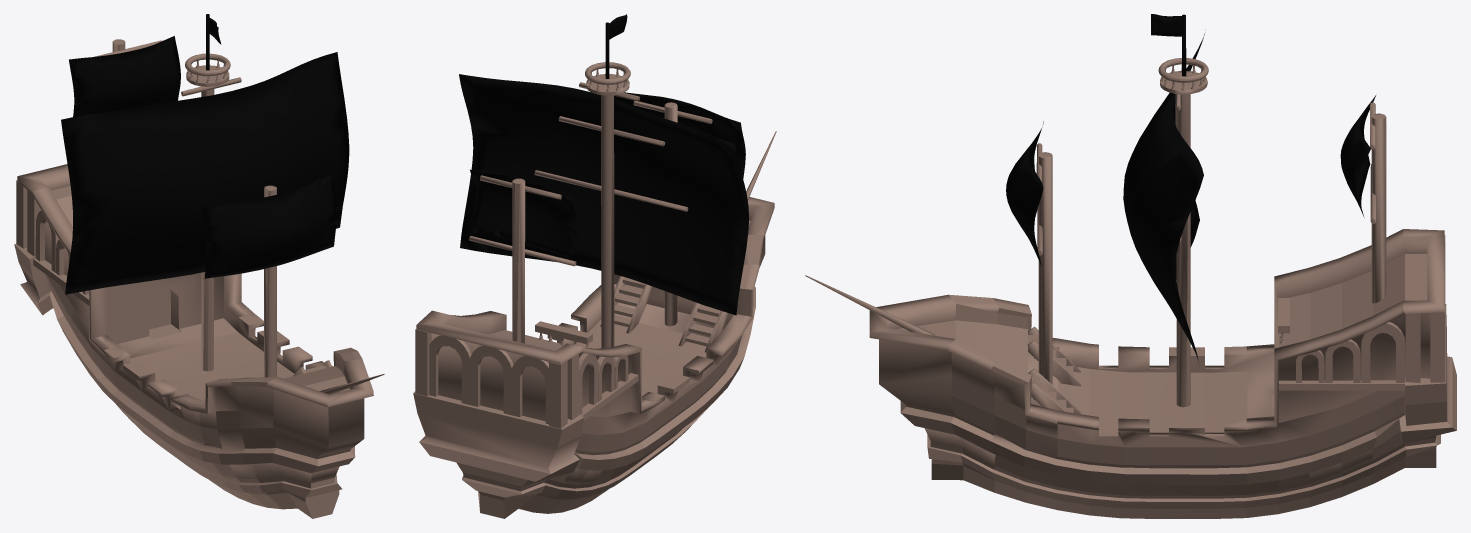
Rendered from Pirate.fbx.
The picture shows the model from 3 angles, left to right: view 1: azimuth 30°, elevation 25°; view 2: azimuth 150°, elevation 25°; view 3: azimuth 270°, elevation 25°; orthographic projection. The views are drawn at different scales.
Parts seen in each view (by area): view 1: Flag; view 2: Flag; view 3: Flag.
Part boxes in pixels (bbox=[...]): Flag: bbox=[14, 14, 384, 518]; Flag: bbox=[413, 14, 776, 518]; Flag: bbox=[805, 14, 1456, 518].
Size of the model in its own units: 2093 by 3260 by 3874.
